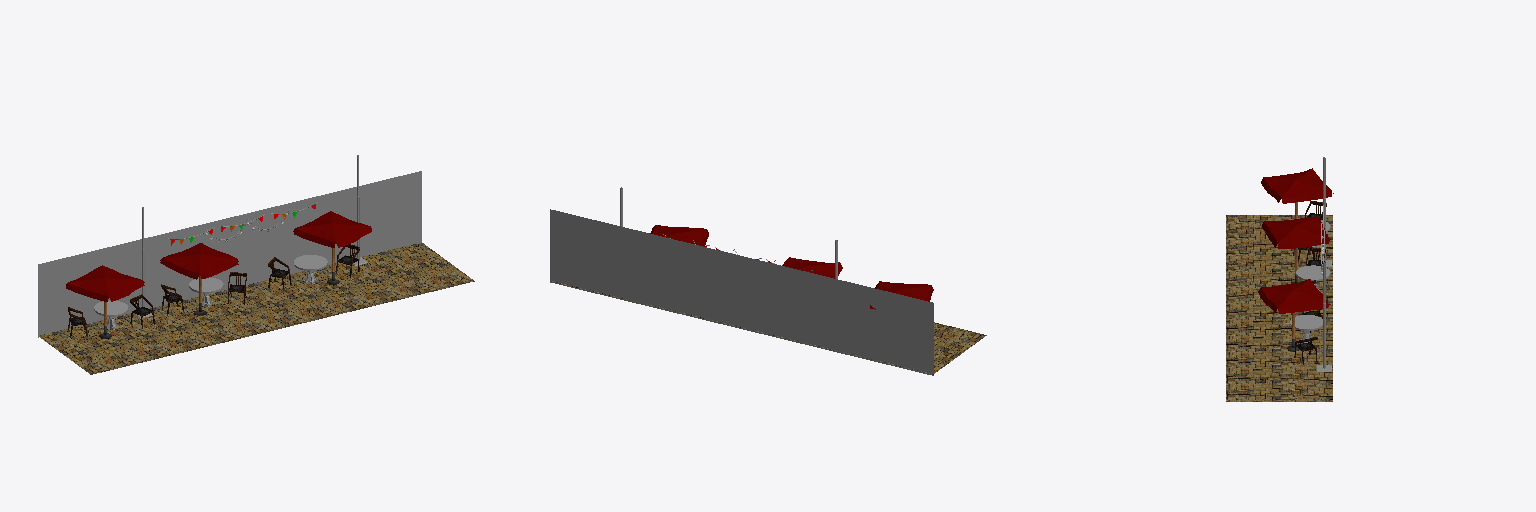
3 views of the same model, side by side, from view 1: azimuth 30°, elevation 25°; view 2: azimuth 150°, elevation 25°; view 3: azimuth 270°, elevation 25° (orthographic).
Parts seen in each view (by area): view 1: pPlane4, pPlane3, Cylinder001, Cylinder002, Cylinder003, trn_TableRound1; view 2: pPlane4, pPlane3, Cylinder002, Cylinder003, Cylinder001; view 3: pPlane3, Cylinder002, Cylinder001, Cylinder003.
Part boxes in pixels (x1,y1,x2,y2): pPlane4: (38, 171, 421, 337); pPlane3: (39, 242, 474, 374); Cylinder001: (160, 243, 238, 315); Cylinder002: (293, 211, 371, 284); Cylinder003: (66, 265, 144, 338); trn_TableRound1: (293, 255, 327, 283); pPlane4: (550, 209, 933, 375); pPlane3: (552, 281, 986, 374); Cylinder002: (650, 225, 708, 245); Cylinder003: (870, 281, 933, 309); Cylinder001: (782, 257, 842, 278); pPlane3: (1226, 215, 1332, 401); Cylinder002: (1258, 279, 1330, 351); Cylinder001: (1262, 216, 1329, 283); Cylinder003: (1261, 168, 1333, 218).
Bounding box in the file's own units: 107 × 28.68 × 26.18.
16 materials, 3 textured.